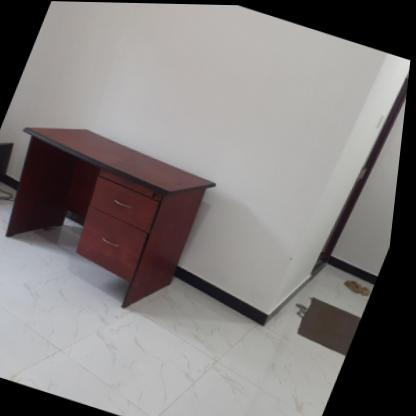Table: (0, 102, 244, 334)
